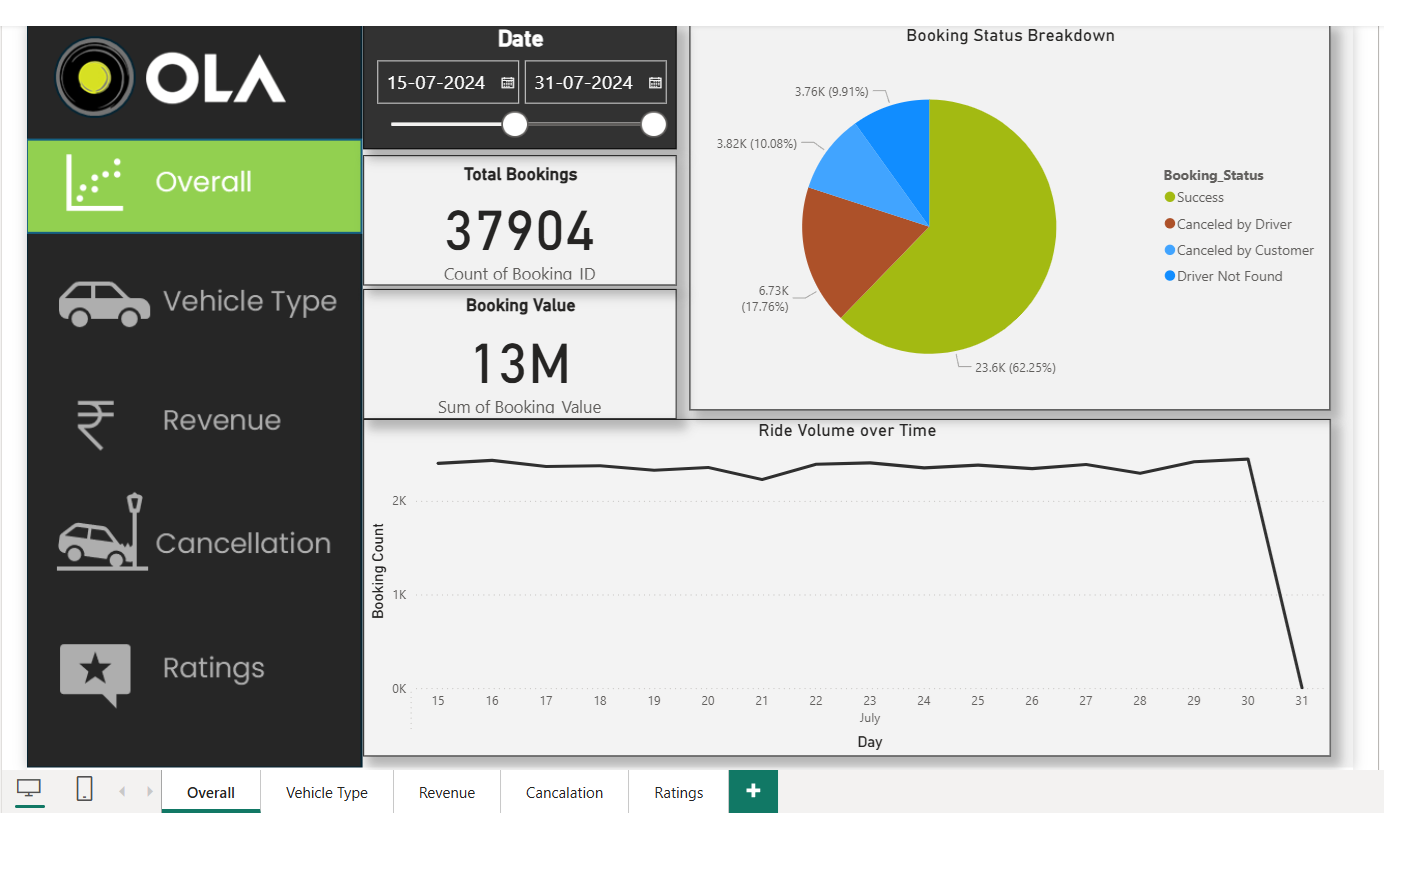

This screenshot's page, from the dashboard's own definition file:
{"tool":"powerbi","page":{"name":"Overall","canvas":[1280,720],"ordinal":0},"visuals":[{"type":"actionButton","box":[0,575.5,324.5,89.3],"z":0},{"type":"actionButton","box":[0,336.6,324.5,89.3],"z":1000},{"type":"actionButton","box":[0,223.2,324.5,89.3],"z":2000},{"type":"actionButton","box":[0,451.2,324.5,89.3],"z":3000},{"type":"lineChart","title":"Ride Volume over Time","fields":{"Y":["CountNonNull(July.Booking_ID)"],"Category":["July.Date.Variation.Date Hierarchy.Month","July.Date.Variation.Date Hierarchy.Day"]},"box":[324.7,381.5,933.3,325.9],"z":4000},{"type":"pieChart","title":"Booking Status Breakdown","fields":{"Category":["July.Booking_Status"],"Y":["CountNonNull(July.Booking_Status)"]},"box":[639.5,0,618.5,372.8],"z":5000},{"type":"slicer","title":"Date","fields":{"Values":["July.Date"]},"box":[324.7,0,302.5,121],"z":6000},{"type":"card","title":"Total Bookings","fields":{"Values":["CountNonNull(July.Booking_ID)"]},"box":[324.7,127.2,302.5,125.9],"z":7000},{"type":"card","title":"Booking Value","fields":{"Values":["Sum(July.Booking_Value)"]},"box":[324.7,255.6,302.5,125.9],"z":8000}]}

Visuals, with their boxes in screenshot pixels (x1, y1, x2, y2):
actionButton: {"left": 22, "top": 623, "right": 361, "bottom": 716}
actionButton: {"left": 22, "top": 373, "right": 361, "bottom": 467}
actionButton: {"left": 22, "top": 255, "right": 361, "bottom": 348}
actionButton: {"left": 22, "top": 493, "right": 361, "bottom": 586}
"Ride Volume over Time" lineChart: {"left": 361, "top": 420, "right": 1335, "bottom": 761}
"Booking Status Breakdown" pieChart: {"left": 690, "top": 22, "right": 1335, "bottom": 411}
"Date" slicer: {"left": 361, "top": 22, "right": 677, "bottom": 148}
"Total Bookings" card: {"left": 361, "top": 155, "right": 677, "bottom": 286}
"Booking Value" card: {"left": 361, "top": 289, "right": 677, "bottom": 420}
